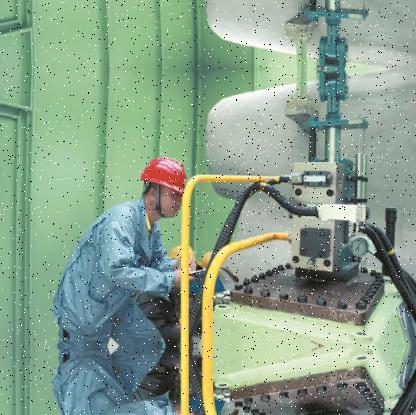helmet: (135, 147, 193, 220)
